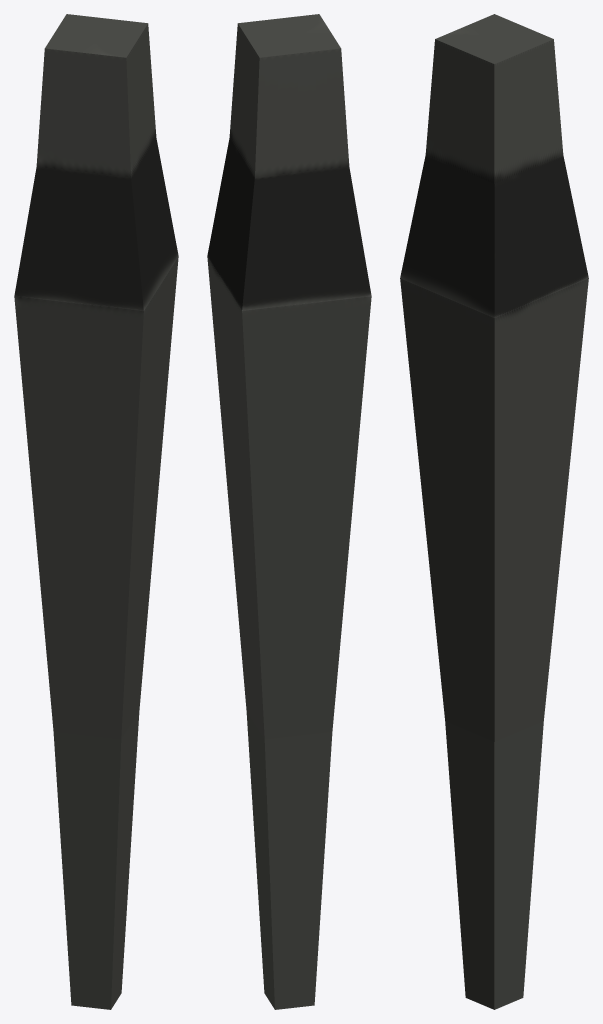
Rendered from torch_handle.obj.
3 renders of one model, left to right at view 1: azimuth 30°, elevation 25°; view 2: azimuth 150°, elevation 25°; view 3: azimuth 270°, elevation 25°, orthographic.
Visible parts, largest first — view 1: Torch_Handle; view 2: Torch_Handle; view 3: Torch_Handle.
Boxes of the visible parts, x1,y1,x2,y2 form: Torch_Handle: [14, 14, 178, 1009]; Torch_Handle: [207, 14, 371, 1009]; Torch_Handle: [400, 14, 588, 1009].
Bounding box in the file's own units: 0.0577 × 0.3232 × 0.0577.
